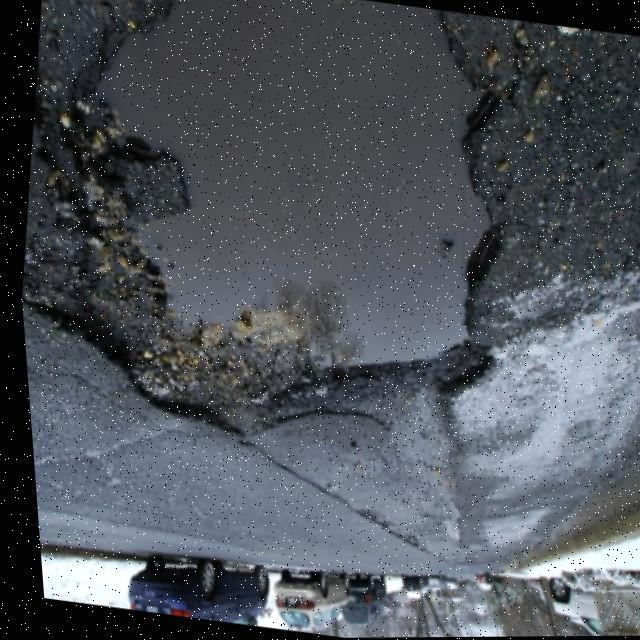Pothole: (0, 0, 551, 479)
